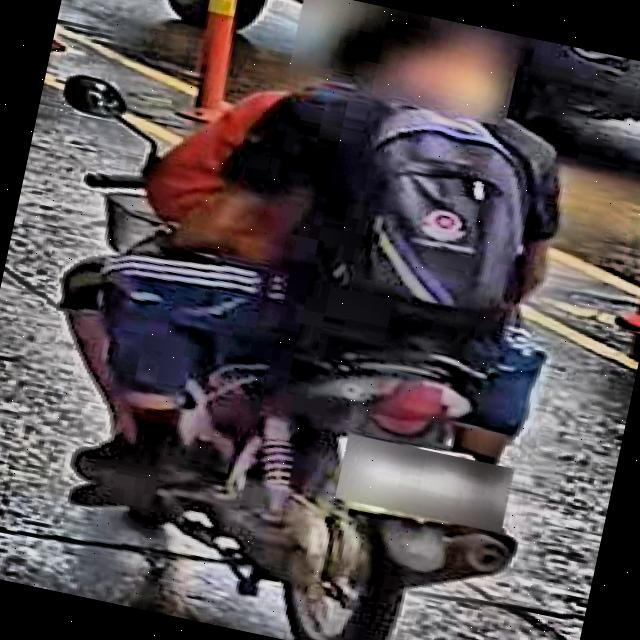motorcycle: (0, 63, 613, 640)
